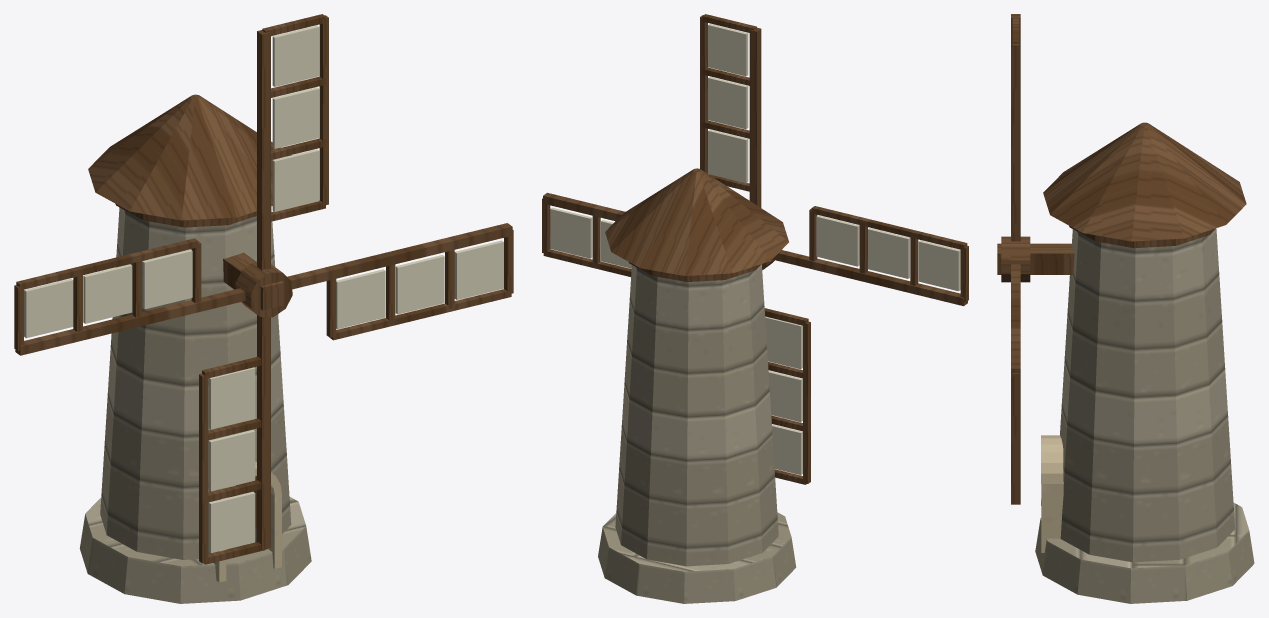
The model's file is windmill.glb.
The picture shows the model from 3 angles, left to right: view 1: azimuth 30°, elevation 25°; view 2: azimuth 150°, elevation 25°; view 3: azimuth 270°, elevation 25°; orthographic projection. The views are drawn at different scales.
Visible parts, largest first — view 1: Building_Body.005, Windmill_Rotor; view 2: Building_Body.005, Windmill_Rotor; view 3: Building_Body.005, Windmill_Rotor.
Boxes of the visible parts, <box> form: Building_Body.005: <box>79,94,311,603</box>; Windmill_Rotor: <box>14,14,513,564</box>; Building_Body.005: <box>598,168,796,603</box>; Windmill_Rotor: <box>542,14,968,484</box>; Building_Body.005: <box>997,122,1254,603</box>; Windmill_Rotor: <box>1001,14,1030,504</box>.
Bounding box in the file's own units: 2.06 × 2.28 × 0.9764.
1 material, 1 textured.
